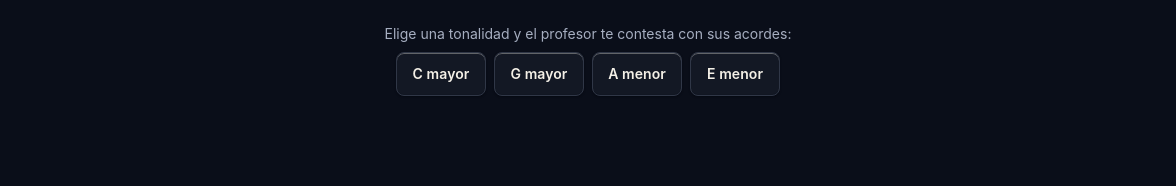
sin tonalidad › elegir una trae el campo para preguntar
Click the button "C mayor" at (441, 74), box [396,52,486,96]
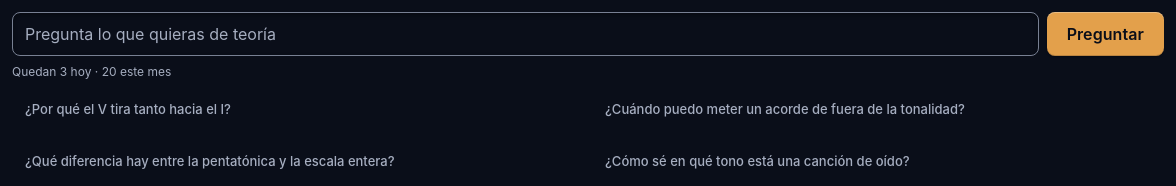
Result: the field is shown at [12,12,1039,56]
